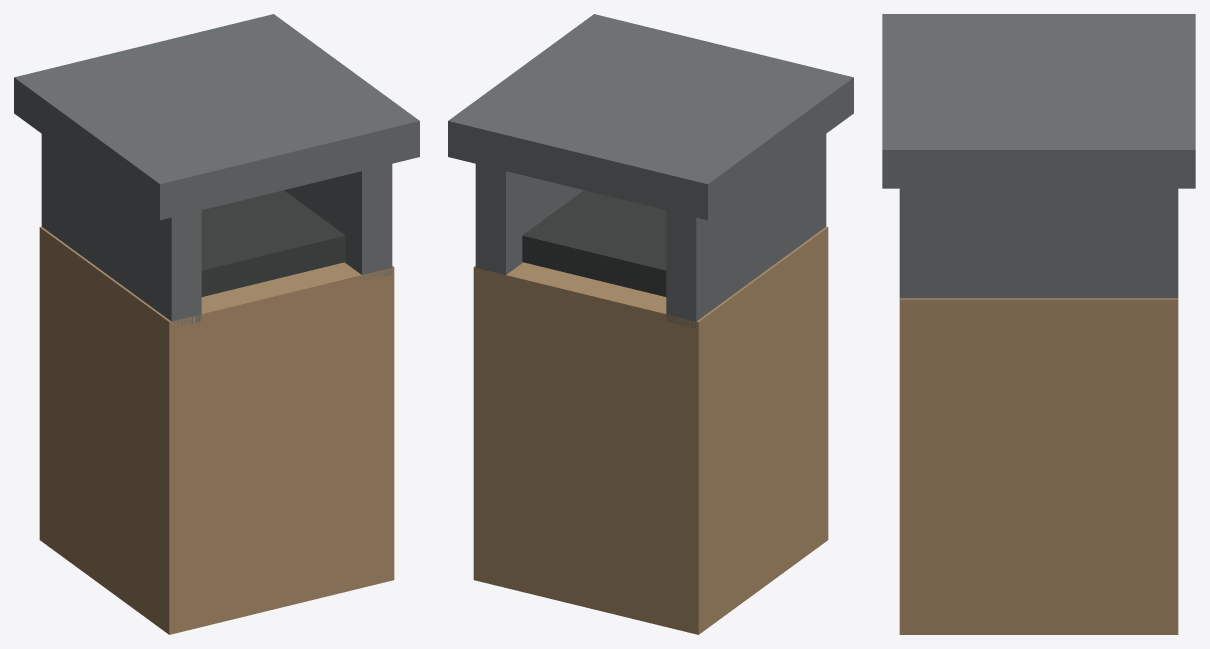
File: bin_02.glb
3 views of the same model, side by side, from view 1: azimuth 30°, elevation 25°; view 2: azimuth 150°, elevation 25°; view 3: azimuth 270°, elevation 25° (orthographic). The views are drawn at different scales.
Parts seen in each view (by area): view 1: Bin_02; view 2: Bin_02; view 3: Bin_02.
Part boxes in pixels (left/top/right/bottom): Bin_02: left=14, top=14, right=419, bottom=634; Bin_02: left=448, top=14, right=853, bottom=634; Bin_02: left=882, top=14, right=1195, bottom=634.
Size of the model in its own units: 0.5737 by 0.9727 by 0.5588.
